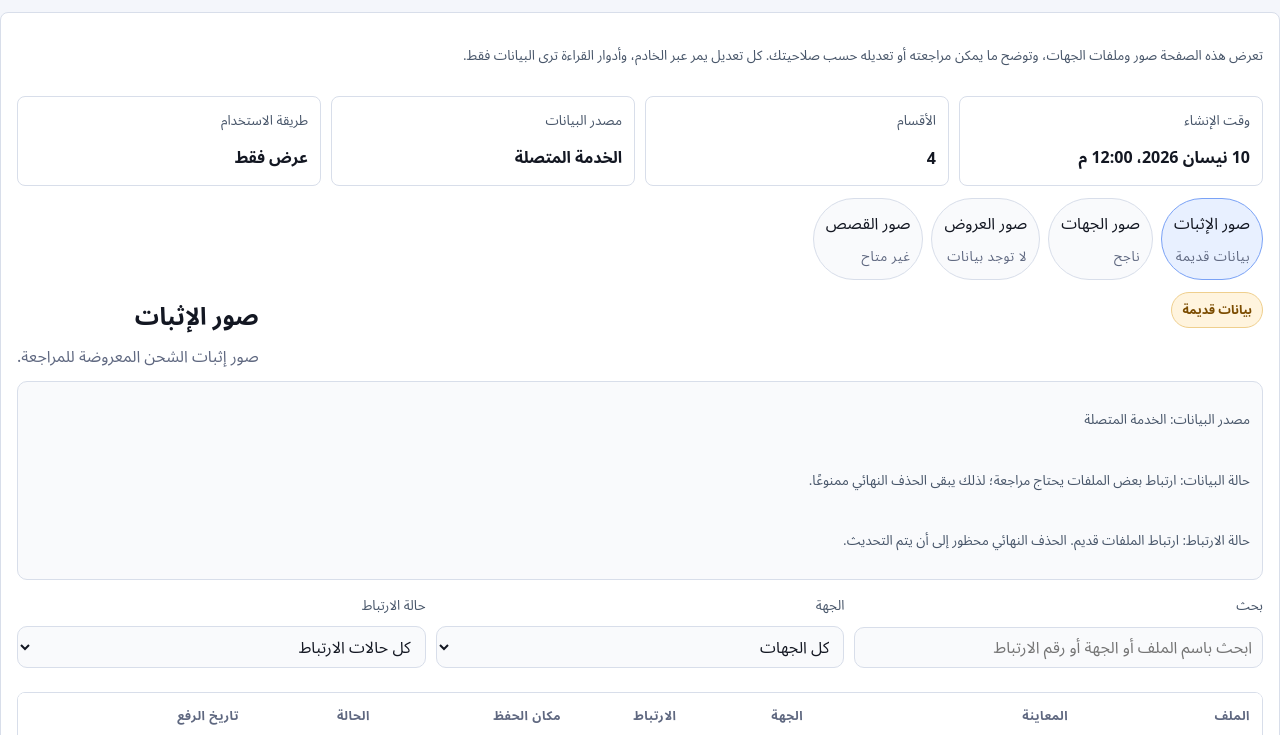
Test case: media center shell › shows active filter chips and clears a media filter chip
Select "Beta Grill" in the dropdown with test id "media-center-venue-filter": (640,647) [436,626,844,668]
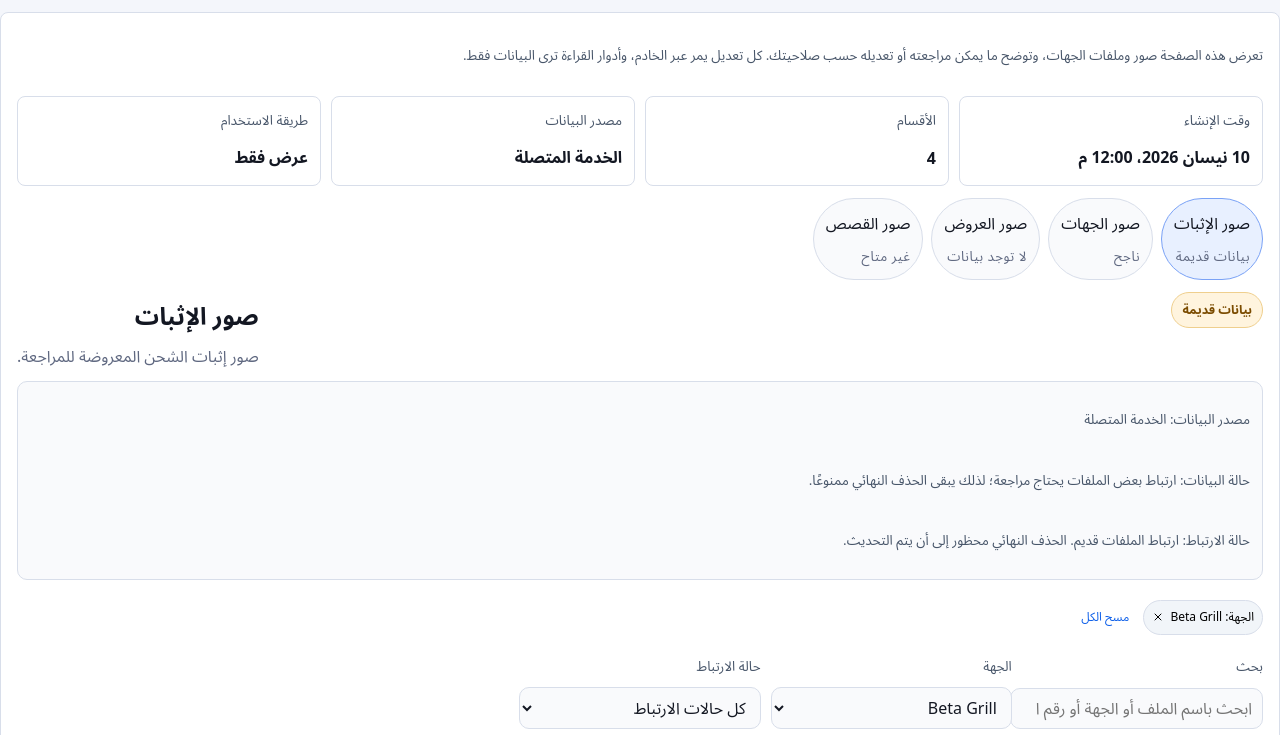
Click the button with aria-label "إزالة الجهة: Beta Grill": (1203,617) [1143,600,1263,635]
(page scrolled)
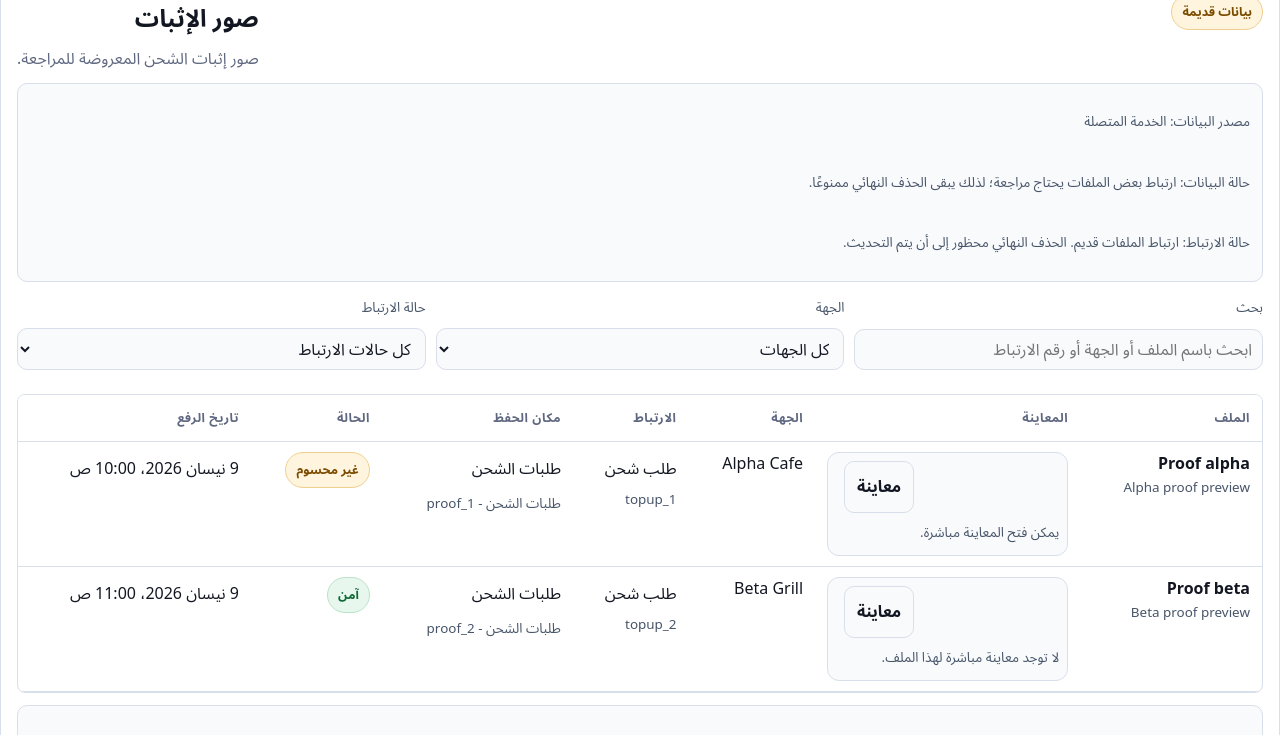
Check: the row with test id "media-center-row-proof_2" is shown, box [18,566,1262,691]
Check: the row with test id "media-center-row-proof_1" is shown, box [18,441,1262,566]
